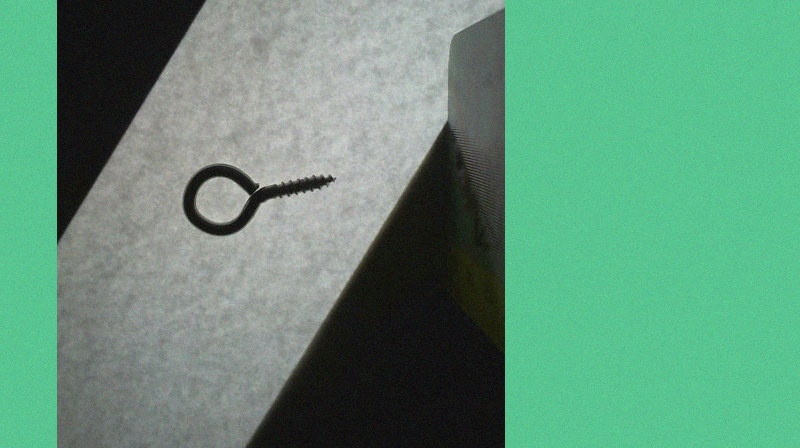O001: (179, 159, 339, 240)
